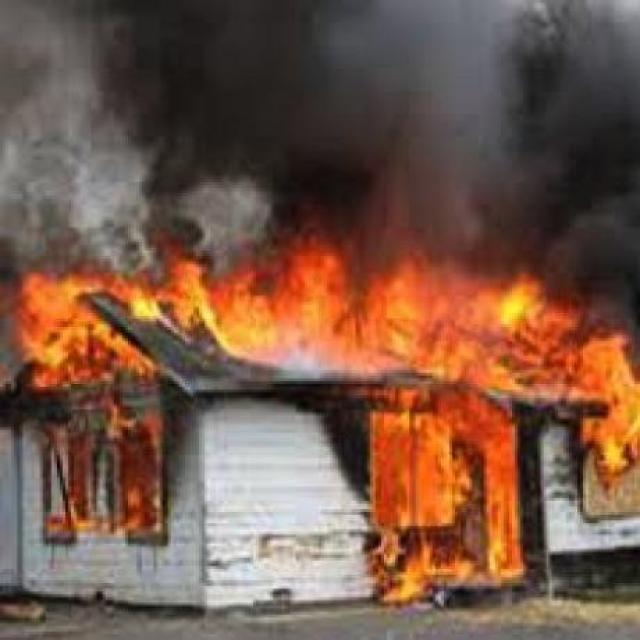Fire: (3, 252, 640, 411), (368, 410, 536, 604), (17, 414, 162, 552), (573, 410, 640, 482)
Smoke: (0, 0, 640, 250)
